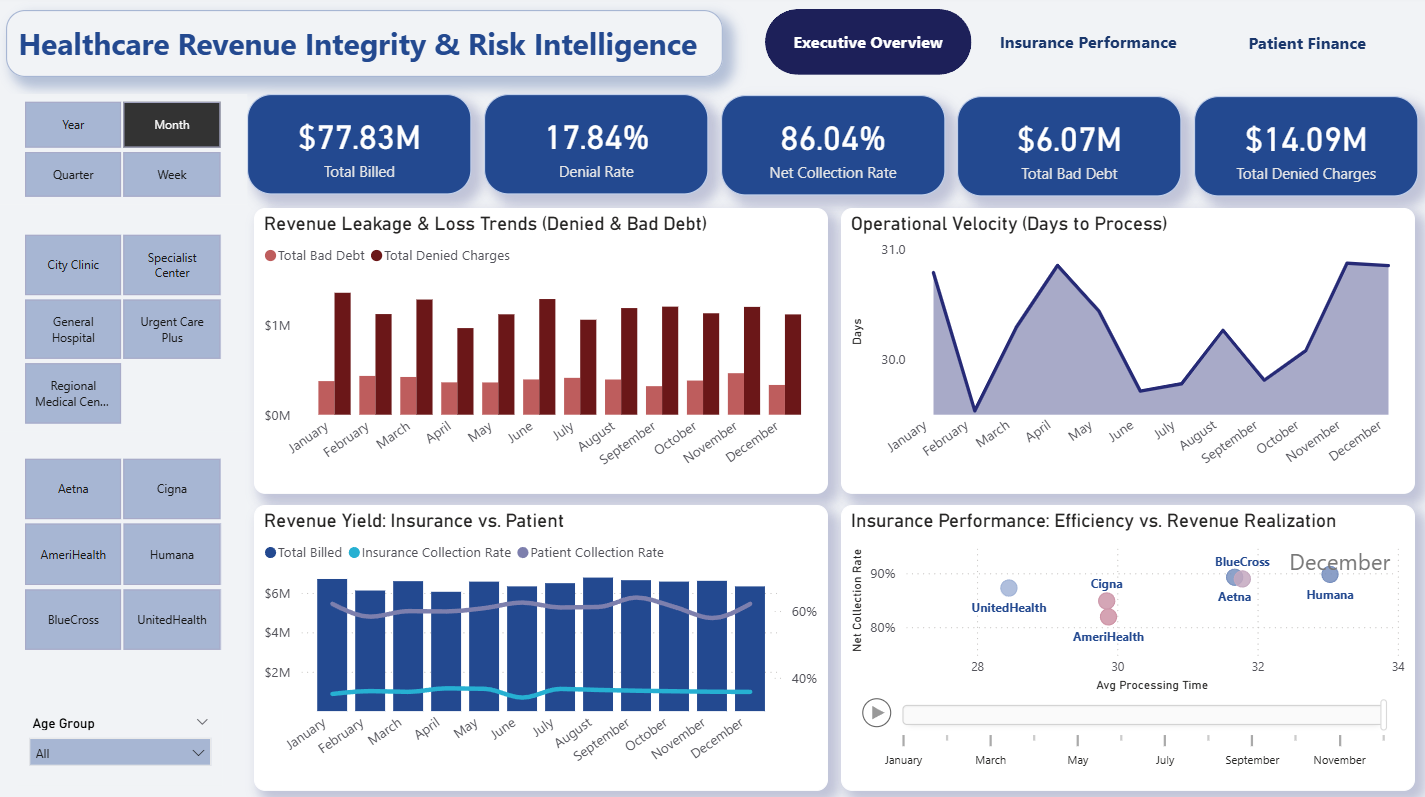

The dashboard page shown, as its layout file describes it:
{"tool":"powerbi","page":{"name":"Executive Overview","canvas":[1280,720],"ordinal":0},"visuals":[{"type":"actionButton","box":[688.5,11.8,185,59],"z":0},{"type":"actionButton","box":[885.4,11.8,185,59],"z":1000},{"type":"actionButton","box":[1082.2,12.2,185,58.7],"z":2000},{"type":"textbox","box":[9,12.5,642,60],"z":3000},{"type":"card","fields":{"Values":["_Measures.Total Billed"]},"box":[224.8,87.8,201.5,90.4],"z":4000},{"type":"card","fields":{"Values":["_Measures.Denial Rate"]},"box":[437,87.8,201.5,90.4],"z":5000},{"type":"card","fields":{"Values":["_Measures.Net Collection Ratio"]},"box":[649.3,88.7,200.6,90.4],"z":6000},{"type":"card","fields":{"Values":["_Measures.Total Bad Debt"]},"box":[860.6,89.6,201.5,90],"z":7000},{"type":"card","fields":{"Values":["_Measures.Revenue Leakage"]},"box":[1072.8,89.6,201,90],"z":8000},{"type":"slicer","fields":{"Values":["Fact_Claims.Payer"]},"box":[0,407.5,224.8,185.4],"z":9000},{"type":"slicer","fields":{"Values":["Fact_Claims.Provider"]},"box":[0,206.8,225,183.2],"z":10000},{"type":"slicer","fields":{"Values":["Dim_Patients.Age Group"]},"box":[20,639,183,68],"z":11000},{"type":"clusteredColumnChart","title":"Revenue Leakage & Loss Trends (Denied & Bad Debt)","fields":{"Category":["Fact_Claims.Service_Date.Variation.Date Hierarchy.Month"],"Y":["_Measures.Total Bad Debt","_Measures.Total Denied Charges"]},"box":[231,189.9,514,256.1],"z":12000},{"type":"areaChart","title":"Operational Velocity (Days to Process)","fields":{"Category":["Fact_Claims.Service_Date.Variation.Date Hierarchy.Month"],"Y":["_Measures.Avg Processing Time"]},"box":[756.7,189.9,514,256.1],"z":13000},{"type":"lineStackedColumnComboChart","title":"Revenue Yield: Insurance vs. Patient","fields":{"Category":["Fact_Claims.Service_Date.Variation.Date Hierarchy.Month"],"Y":["_Measures.Total Billed"],"Y2":["_Measures.Insurance Collection Rate","_Measures.Patient Collection Rate"]},"box":[231.1,456.1,513.6,255.6],"z":14000},{"type":"scatterChart","title":"Insurance Performance: Efficiency vs. Revenue Realization","fields":{"Play":["Fact_Claims.Service_Date.Variation.Date Hierarchy.Month"],"X":["_Measures.Avg Processing Time"],"Category":["Fact_Claims.Payer"],"Y":["_Measures.Net Collection Ratio"]},"box":[756.9,456.1,513.6,255.6],"z":15000},{"type":"slicer","fields":{"Values":["Frequency Toggle.Frequency Toggle"]},"box":[0,87.8,224.8,99.4],"z":16000}]}

Visuals, with their boxes in screenshot pixels (x1, y1, x2, y2), scaled from the page's 1280x720 canvas onto the 1425x797 screenshot:
actionButton: (766, 13, 972, 78)
actionButton: (986, 13, 1192, 78)
actionButton: (1205, 14, 1411, 78)
textbox: (10, 14, 725, 80)
card - _Measures.Total Billed: (250, 97, 475, 197)
card - _Measures.Denial Rate: (487, 97, 711, 197)
card - _Measures.Net Collection Ratio: (723, 98, 946, 198)
card - _Measures.Total Bad Debt: (958, 99, 1182, 199)
card - _Measures.Revenue Leakage: (1194, 99, 1418, 199)
slicer - Fact_Claims.Payer: (0, 451, 250, 656)
slicer - Fact_Claims.Provider: (0, 229, 250, 432)
slicer - Dim_Patients.Age Group: (22, 707, 226, 783)
"Revenue Leakage & Loss Trends (Denied & Bad Debt)" clusteredColumnChart: (257, 210, 829, 494)
"Operational Velocity (Days to Process)" areaChart: (842, 210, 1415, 494)
"Revenue Yield: Insurance vs. Patient" lineStackedColumnComboChart: (257, 505, 829, 788)
"Insurance Performance: Efficiency vs. Revenue Realization" scatterChart: (843, 505, 1414, 788)
slicer - Frequency Toggle.Frequency Toggle: (0, 97, 250, 207)
